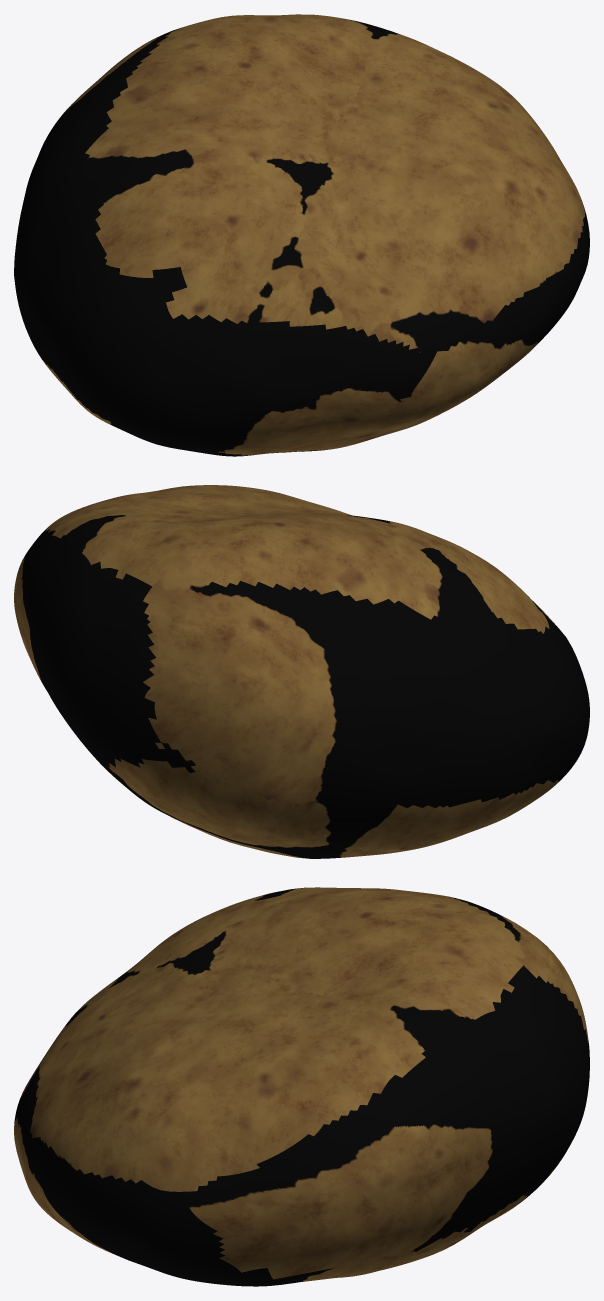
The picture shows the model from 3 angles, top to bottom: view 1: azimuth 30°, elevation 25°; view 2: azimuth 150°, elevation 25°; view 3: azimuth 270°, elevation 25°; orthographic projection. The views are drawn at different scales.
Parts seen in each view (by area): view 1: original_ico.020; view 2: original_ico.020; view 3: original_ico.020.
Part boxes in pixels (x1=…): original_ico.020: x1=14, y1=14, x2=589, y2=456; original_ico.020: x1=14, y1=485, x2=589, y2=858; original_ico.020: x1=14, y1=887, x2=589, y2=1286.
Bounding box in the file's own units: 4.25 × 2.67 × 3.91.
